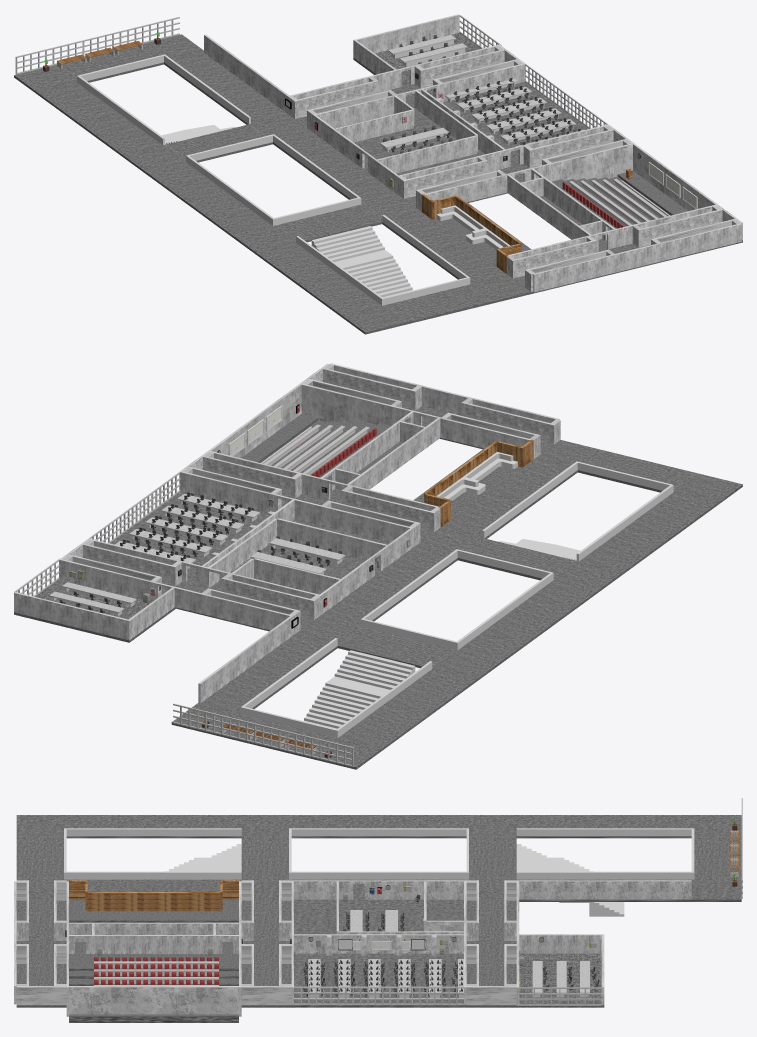
Rendered from dereks_lab.fbx.
3 renders of one model, top to bottom at view 1: azimuth 30°, elevation 25°; view 2: azimuth 150°, elevation 25°; view 3: azimuth 270°, elevation 25°, orthographic. The views are drawn at different scales.
Visible parts, largest first — view 1: corridor_floor-col.004, corridor_floor-col.014, floor-col.002, corridor_floor-col.003, back_wall1-col.005, right_wall.012, right_wall.013, corridor_floor-col.016, stair1-col.001, right_wall.016, floor-col, tables (+55 smaller); view 2: corridor_floor-col.004, corridor_floor-col.014, floor-col.002, tables, back_wall1-col.001, corridor_floor-col.017, right_wall.016, Cube.100, stair1-col, right_wall, right_wall.001, right_wall.007 (+52 smaller); view 3: corridor_floor-col.004, corridor_floor-col.014, floor-col.002, back_wall1-col.004, floor-col, right_wall.007, corridor_floor-col.001, corridor_floor-col.015, corridor_floor-col, floor-col.003, wall-col, back_wall1-col.010 (+45 smaller).
Part boxes in pixels (x1,y1,x2,y2): corridor_floor-col.004: (14,65,407,334); corridor_floor-col.014: (143,34,533,303); floor-col.002: (443,82,588,166); corridor_floor-col.003: (384,285,491,324); back_wall1-col.005: (550,143,634,181); right_wall.012: (636,223,741,266); right_wall.013: (533,248,638,292); corridor_floor-col.016: (275,205,382,242); stair1-col.001: (311,226,390,266); right_wall.016: (353,14,459,57); floor-col: (335,108,484,175); tables: (471,97,584,152); corridor_floor-col.004: (310,473,742,769); corridor_floor-col.014: (171,440,603,735); floor-col.002: (110,491,267,584); tables: (129,494,260,556); back_wall1-col.001: (300,383,392,425); corridor_floor-col.017: (337,627,454,667); right_wall.016: (14,592,129,639); Cube.100: (173,703,353,766); stair1-col: (328,650,415,694); right_wall: (174,587,291,630); right_wall.001: (294,499,410,542); right_wall.007: (198,615,293,703); corridor_floor-col.004: (16,815,741,838); corridor_floor-col.014: (16,878,741,901); floor-col.002: (291,953,466,1007); back_wall1-col.004: (69,986,238,1014); floor-col: (294,899,463,934); right_wall.007: (516,880,691,899); corridor_floor-col.001: (466,899,516,1007); corridor_floor-col.015: (16,899,66,1007); corridor_floor-col: (241,899,291,1007); floor-col.003: (516,953,604,1007); wall-col: (291,880,466,899); back_wall1-col.010: (87,892,220,911).
Bounding box in the file's own units: 182 × 292 × 27.5.
Materials: 26 (25 with a texture image).
